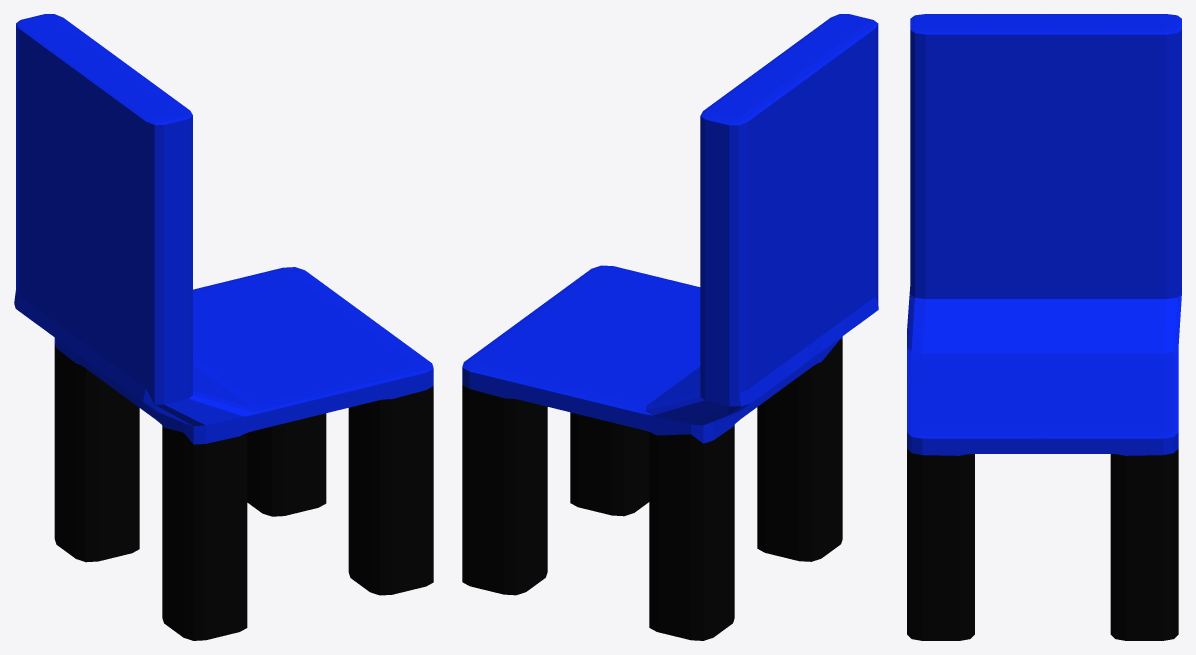
File: silla.fbx
3 renders of one model, left to right at view 1: azimuth 30°, elevation 25°; view 2: azimuth 150°, elevation 25°; view 3: azimuth 270°, elevation 25°, orthographic. The views are drawn at different scales.
Visible parts, largest first — view 1: Cube; view 2: Cube; view 3: Cube.
Part boxes in pixels (left/top/right/bottom): Cube: left=14, top=14, right=433, bottom=640; Cube: left=462, top=14, right=878, bottom=640; Cube: left=907, top=14, right=1181, bottom=640.
Bounding box in the file's own units: 232 × 404 × 202.
